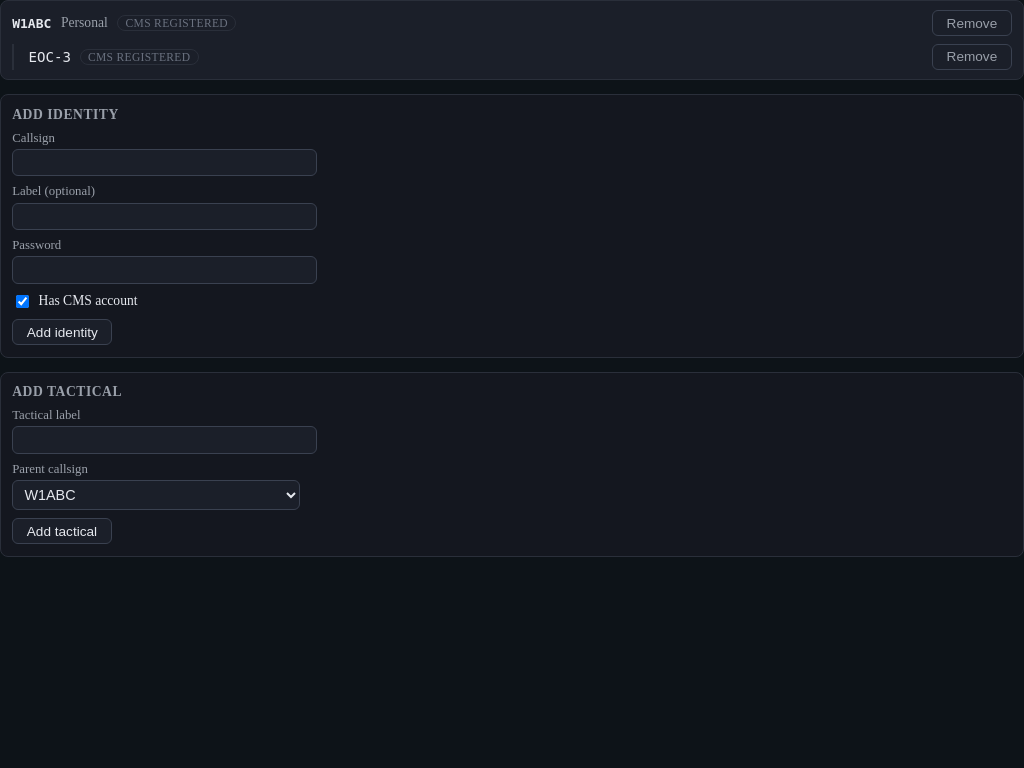
Test: IdentitiesSettings — add FULL › surfaces a mutation rejection via parseIdentityError in the alert
The image size is (1024, 768).
Type "W7XYZ" into the field with test id "identity-add-full-callsign". click: coordinates (164, 162)
box: [12,149,317,176]
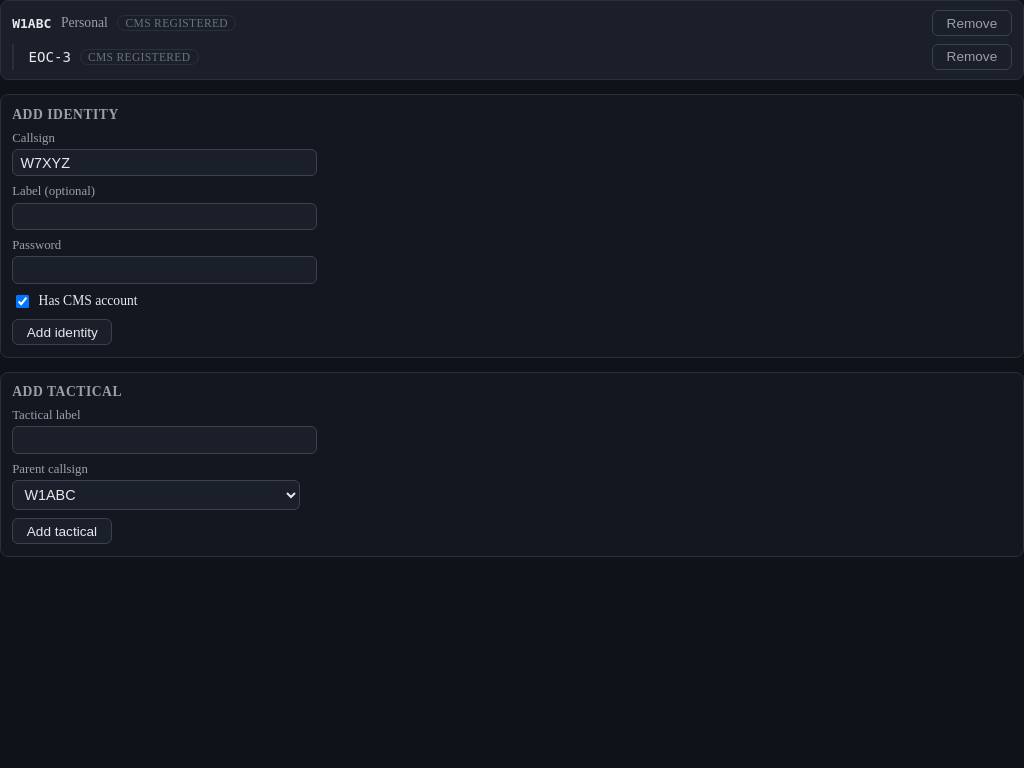
Type "pw" into the password field with test id "identity-add-full-password". click: coordinates (164, 270)
box: [12,256,317,284]
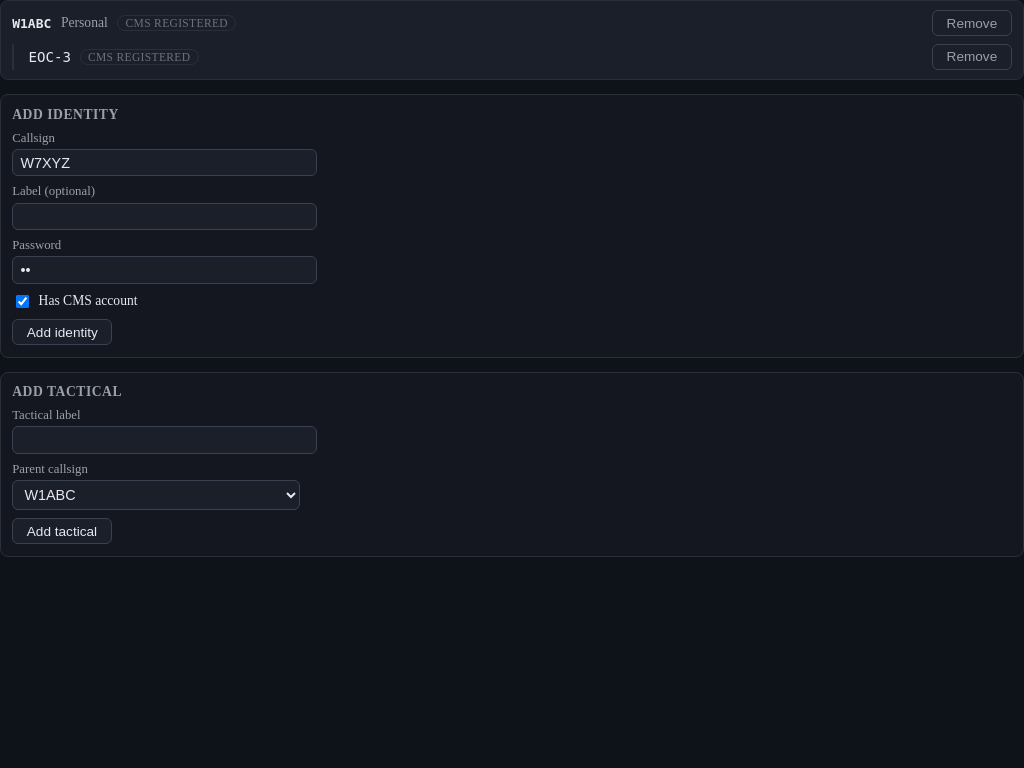
Click the button with test id "identity-add-full-submit". click: coordinates (62, 332)
box: [12,319,112,346]
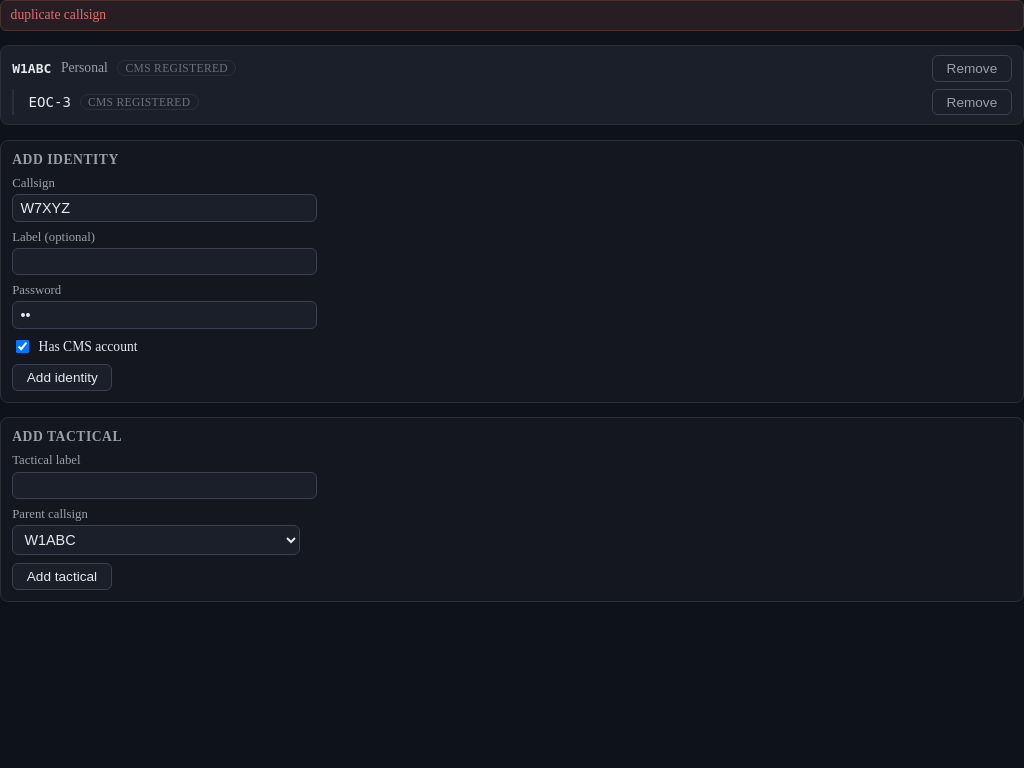
Now the message with test id "identities-error" reads "duplicate callsign", box [11,7,106,22]
